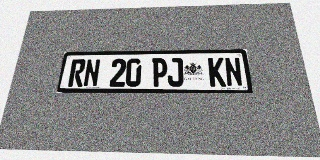0: (125, 58, 142, 87)
2: (109, 59, 126, 87)
J: (168, 58, 183, 87)
K: (208, 57, 226, 87)
N: (224, 57, 243, 87), (83, 59, 101, 87)
P: (151, 58, 167, 87)
R: (68, 59, 86, 87)
